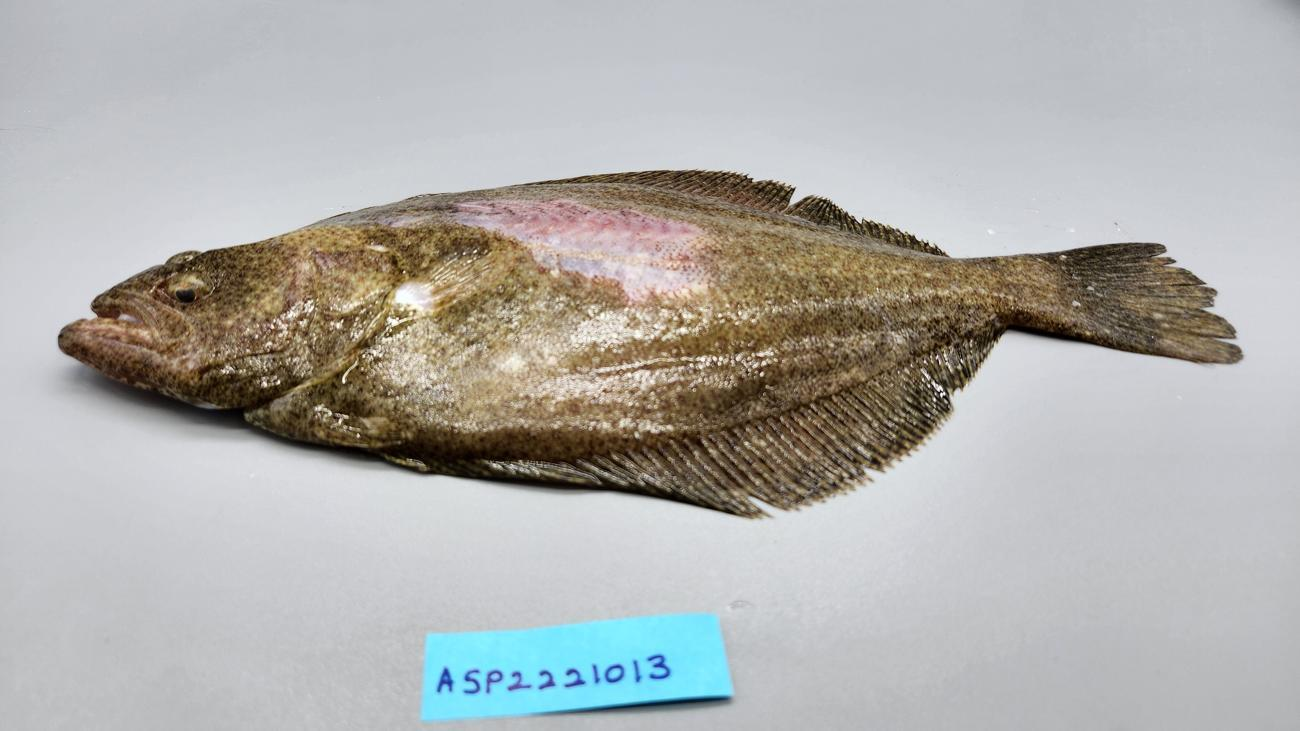SPOUY: (53, 161, 1248, 526)
